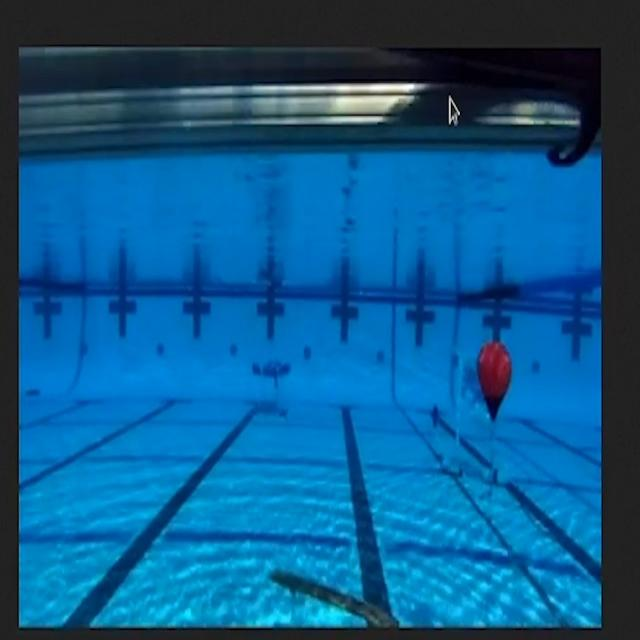Buoy: (460, 322, 531, 442)
Path: (250, 538, 401, 636)
